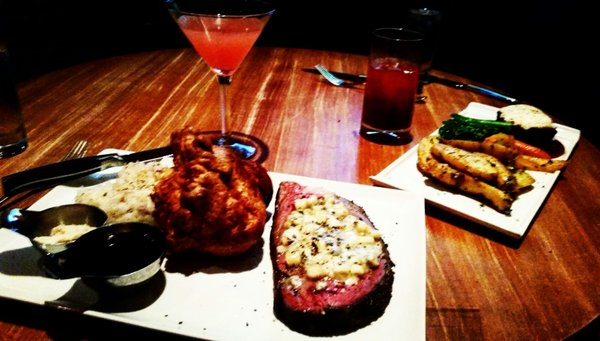burger: (0, 145, 175, 210)
salad: (1, 203, 109, 255)
sandwich: (427, 69, 518, 104)
soup: (416, 109, 566, 215)
